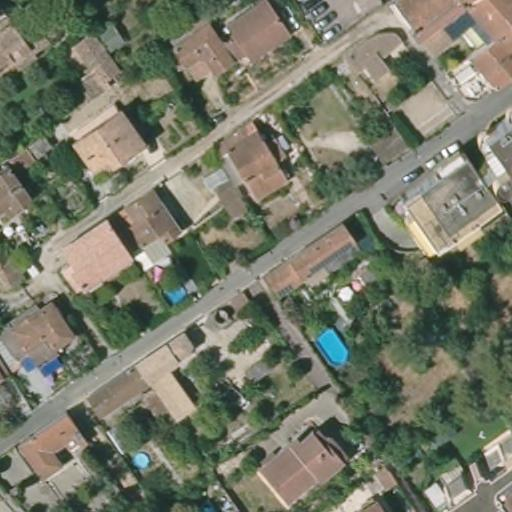pool: (315, 324, 352, 369), (154, 271, 190, 303), (130, 449, 152, 469)
